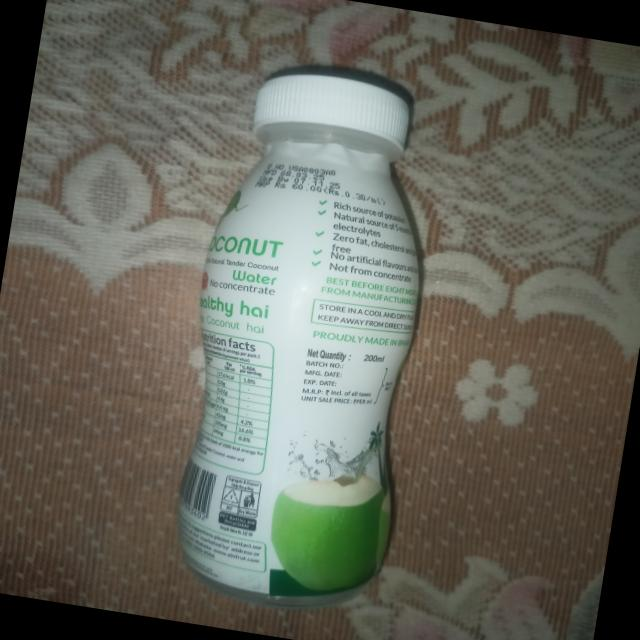plastic_bottle: (146, 60, 456, 629)
